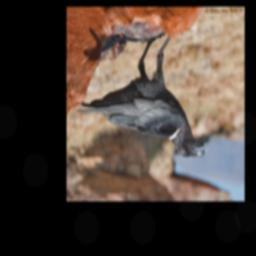Crow: (75, 32, 207, 161)
